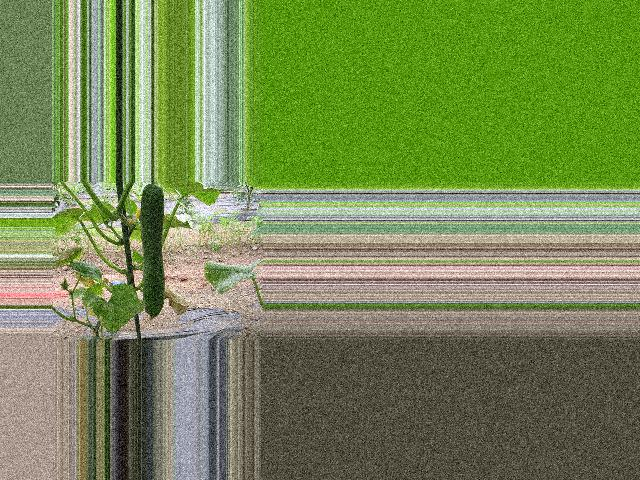cucumber: (140, 184, 165, 321)
